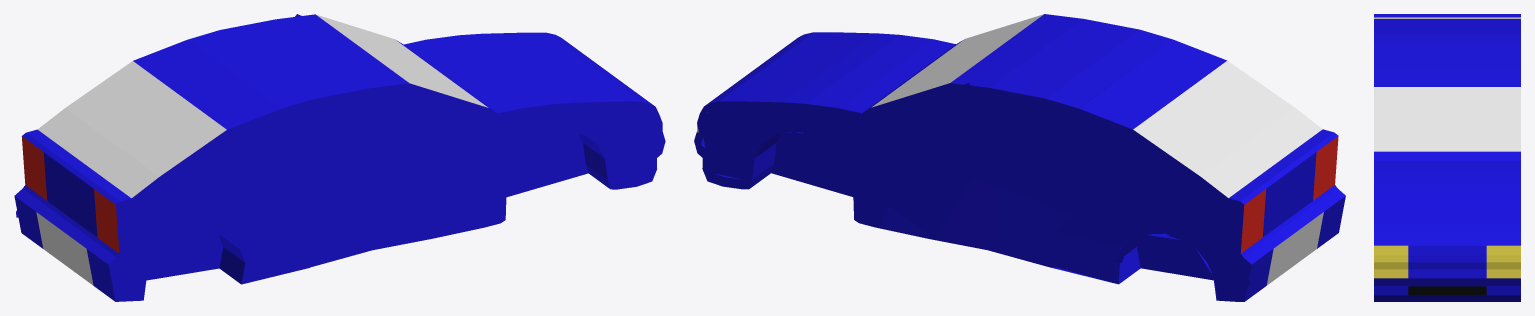
Rendered from autokarosse.fbx.
3 renders of one model, left to right at view 1: azimuth 30°, elevation 25°; view 2: azimuth 150°, elevation 25°; view 3: azimuth 270°, elevation 25°, orthographic. The views are drawn at different scales.
Parts seen in each view (by area): view 1: Plane.001; view 2: Plane.001; view 3: Plane.001.
Part boxes in pixels (x1,y1,x2,y2): Plane.001: (14, 14, 665, 301); Plane.001: (694, 14, 1345, 301); Plane.001: (1374, 14, 1520, 301).
Size of the model in its own units: 936 by 273 by 274.
